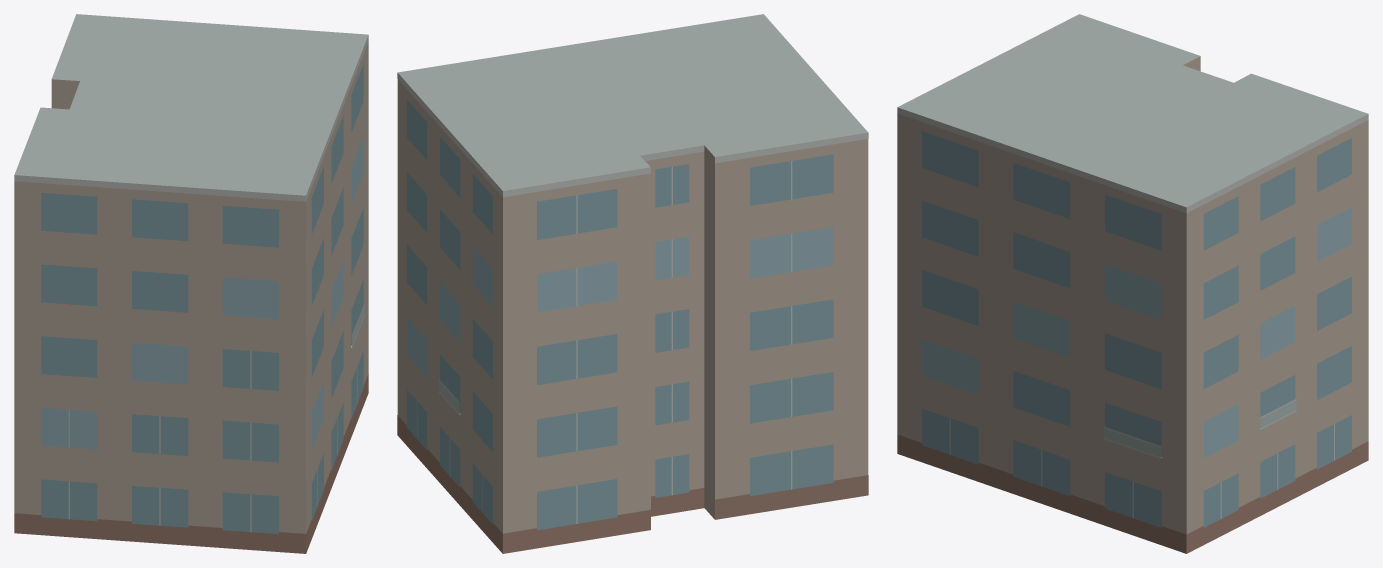
The model's file is survey-upis-32742525.glb.
3 views of the same model, side by side, from view 1: azimuth 30°, elevation 25°; view 2: azimuth 150°, elevation 25°; view 3: azimuth 270°, elevation 25° (orthographic). The views are drawn at different scales.
Parts seen in each view (by area): view 1: survey-upis-32742525.tmp; view 2: survey-upis-32742525.tmp; view 3: survey-upis-32742525.tmp.
Boxes of the visible parts, box(x1,y1,x2,y2) form: survey-upis-32742525.tmp: box(14, 14, 368, 553); survey-upis-32742525.tmp: box(397, 14, 868, 553); survey-upis-32742525.tmp: box(897, 14, 1368, 553).
Size of the model in its own units: 17.01 by 14.2 by 17.52.
